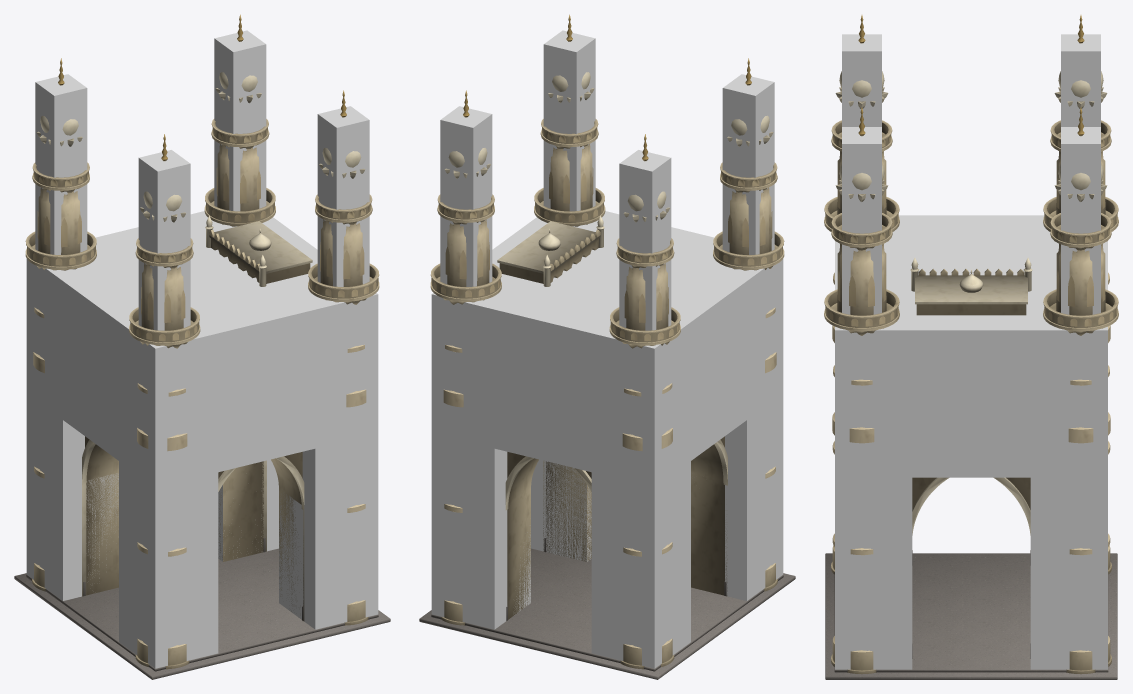
The model's file is charminar.glb.
The picture shows the model from 3 angles, left to right: view 1: azimuth 30°, elevation 25°; view 2: azimuth 150°, elevation 25°; view 3: azimuth 270°, elevation 25°; orthographic projection. The views are drawn at different scales.
Visible parts, largest first — view 1: COL_charminar, charminar_body; view 2: COL_charminar, charminar_body; view 3: COL_charminar, charminar_body.
Part boxes in pixels (x1,y1,x2,y2): COL_charminar: (26,30,378,668); charminar_body: (14,14,390,679); COL_charminar: (431,30,783,668); charminar_body: (419,14,795,679); COL_charminar: (835,34,1107,669); charminar_body: (824,15,1118,679).
Size of the model in its own units: 64.6 by 135 by 64.6.
Materials: 7 (7 with a texture image).
